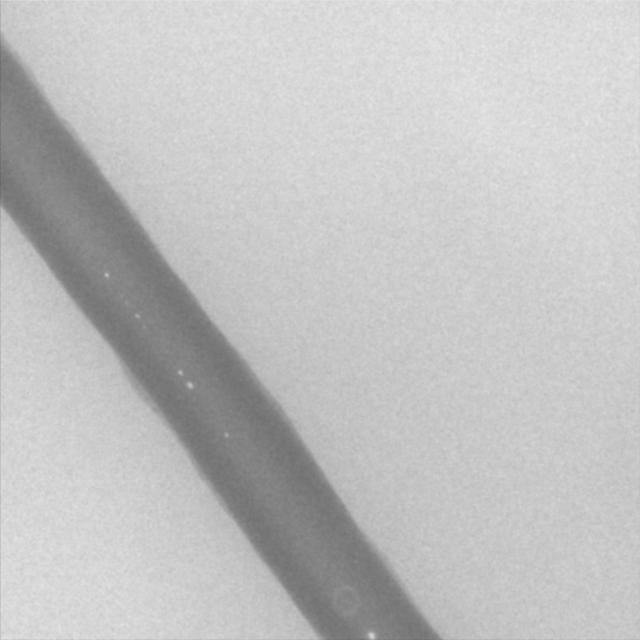air hole: (185, 380, 195, 392), (366, 628, 376, 638), (102, 269, 109, 279), (133, 311, 141, 319), (223, 431, 231, 439), (177, 368, 184, 376)
hollow bead: (329, 584, 362, 620)
